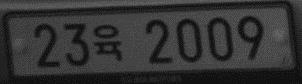0: (175, 17, 203, 64), (206, 15, 234, 62)
2: (144, 16, 173, 67), (32, 22, 60, 68)
3: (62, 21, 90, 68)
9: (235, 13, 265, 60)
육: (91, 22, 124, 63)
